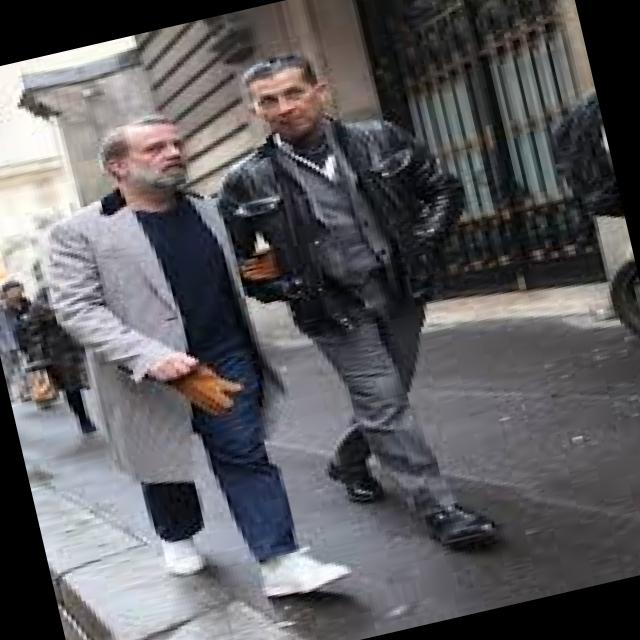Jacket: (10, 167, 332, 511), (211, 93, 491, 341)
